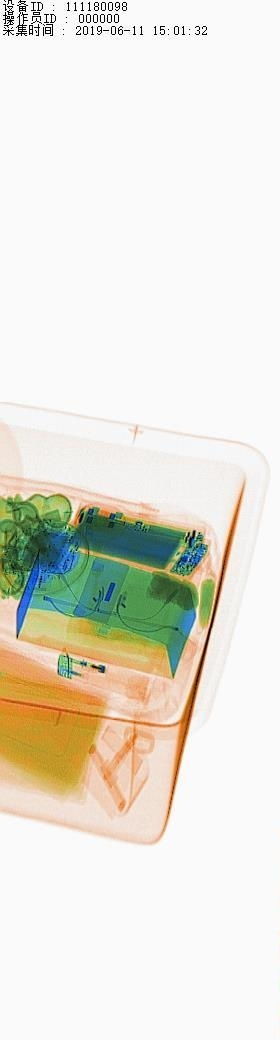NonmetallicFire: (48, 643, 191, 715)
